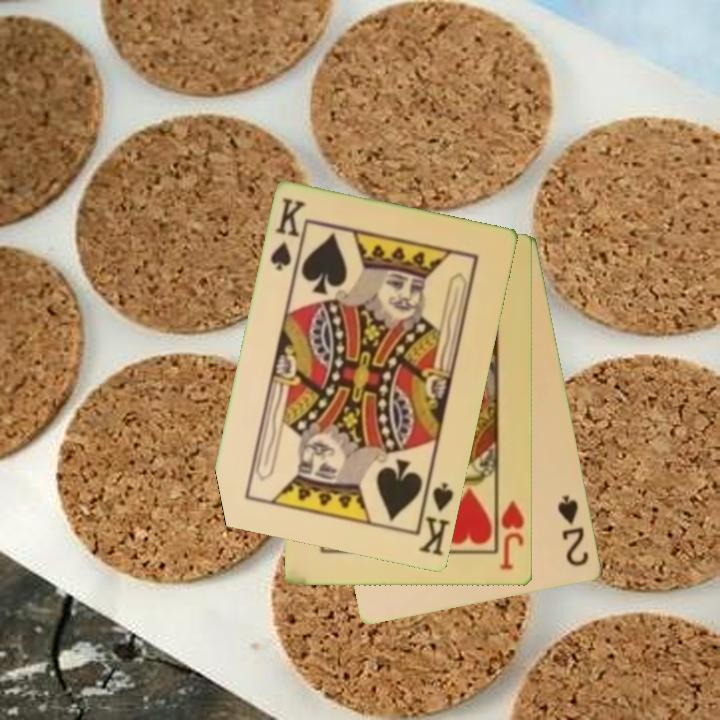2s: (554, 492, 592, 570)
Jh: (494, 491, 528, 573)
Ks: (414, 475, 457, 559), (267, 195, 309, 274)
